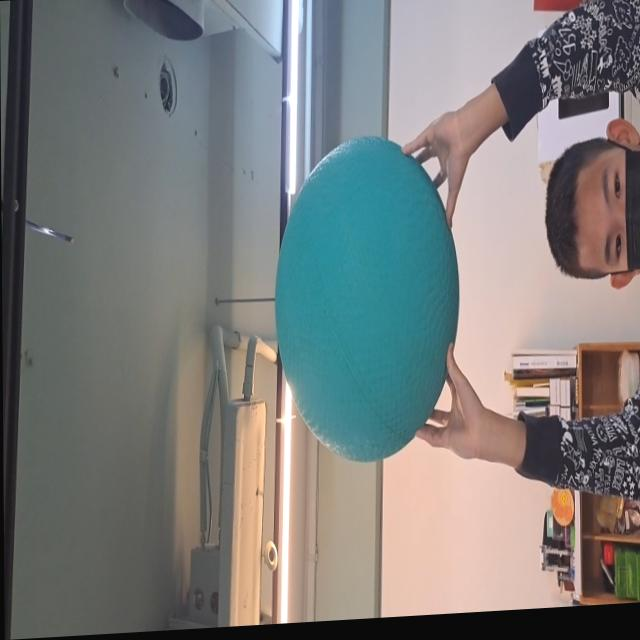ALGAE: (274, 130, 460, 463)
